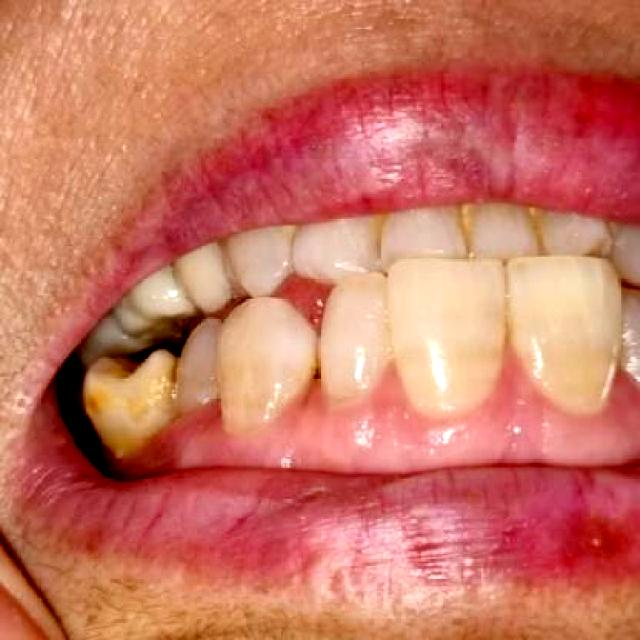Plaque: (367, 343, 551, 427), (127, 406, 234, 463)
